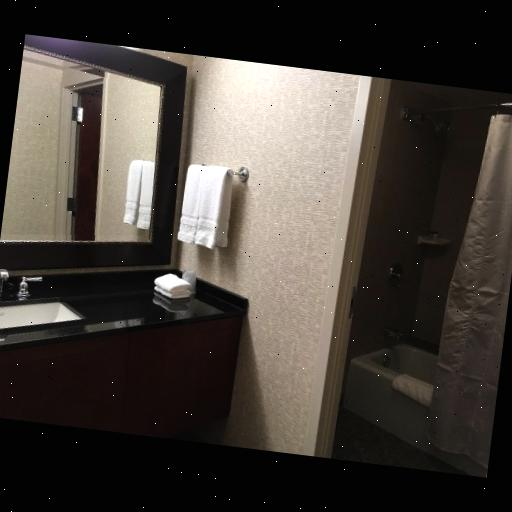clean mirror: (2, 48, 182, 268)
clean_sink: (0, 262, 247, 405)
folded_towel: (170, 156, 240, 250)
